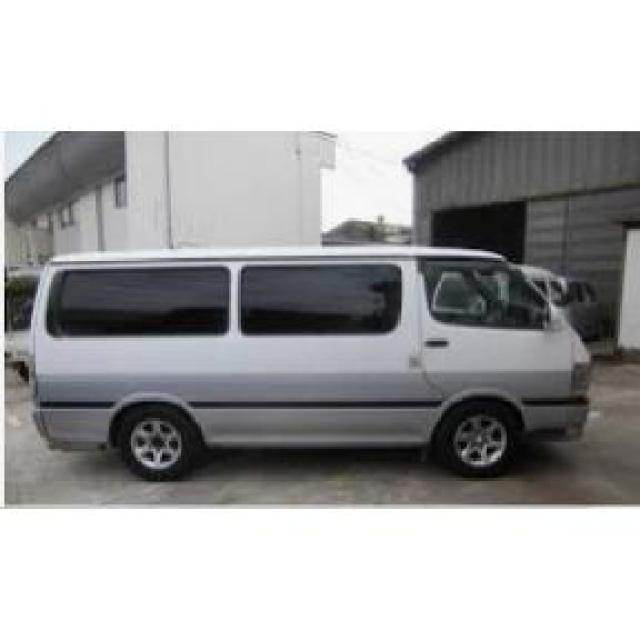Van: (28, 242, 593, 483)
